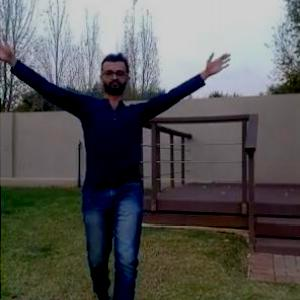takeoff: (0, 40, 245, 299)
